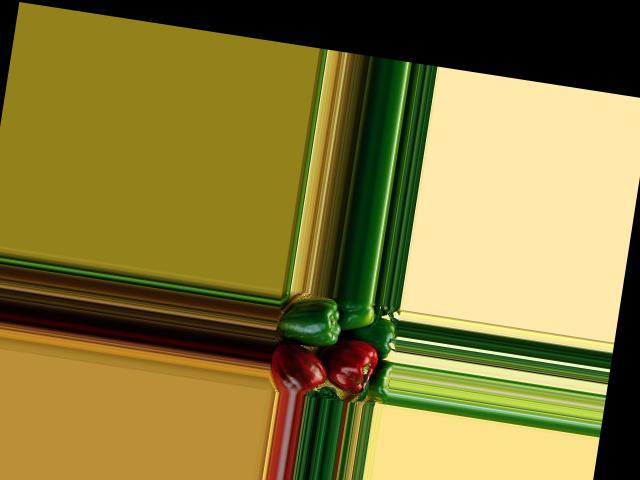bell_pepper: (266, 343, 330, 396)
